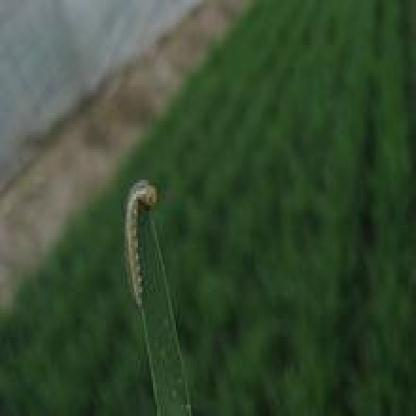sawfly: (122, 178, 164, 310)
